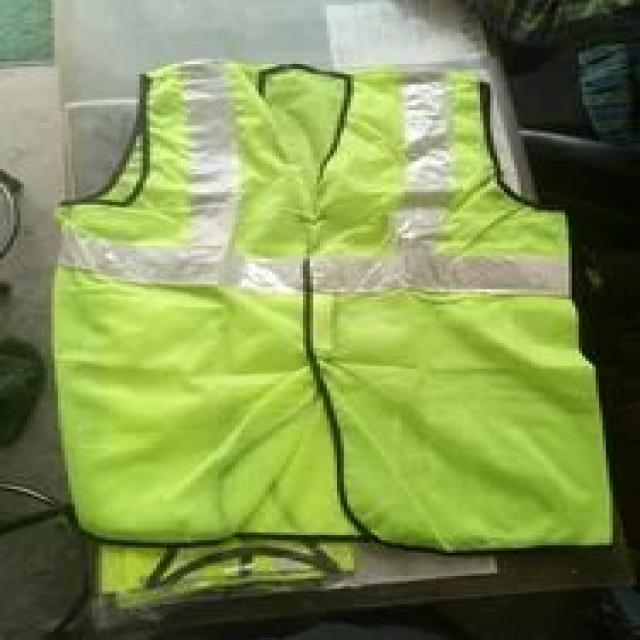Reflective-Jacket: (3, 38, 630, 584)
